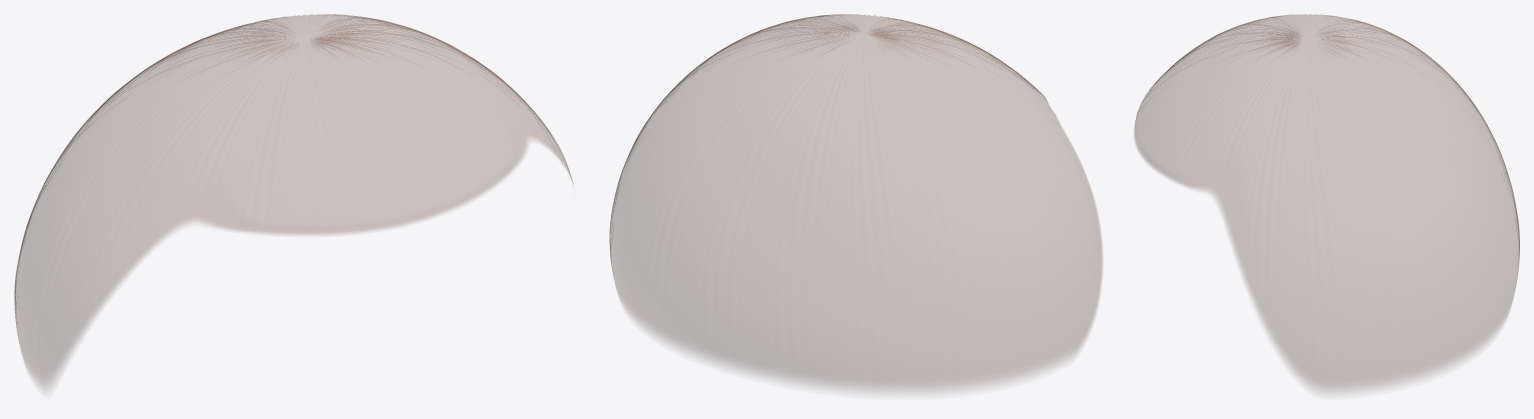
The model's file is Ombre-b0033e6ba995253-hair.glb.
3 views of the same model, side by side, from view 1: azimuth 30°, elevation 25°; view 2: azimuth 150°, elevation 25°; view 3: azimuth 270°, elevation 25° (orthographic). The views are drawn at different scales.
Visible parts, largest first — view 1: 226 hair / Hair252 / buzz edge; view 2: 226 hair / Hair252 / buzz edge; view 3: 226 hair / Hair252 / buzz edge.
Part boxes in pixels (x1,y1,x2,y2): 226 hair / Hair252 / buzz edge: [14, 14, 573, 389]; 226 hair / Hair252 / buzz edge: [609, 14, 1102, 392]; 226 hair / Hair252 / buzz edge: [1134, 14, 1519, 392].
Size of the model in its own units: 0.9886 by 0.5747 by 0.761.
Materials: 1 (1 with a texture image).
